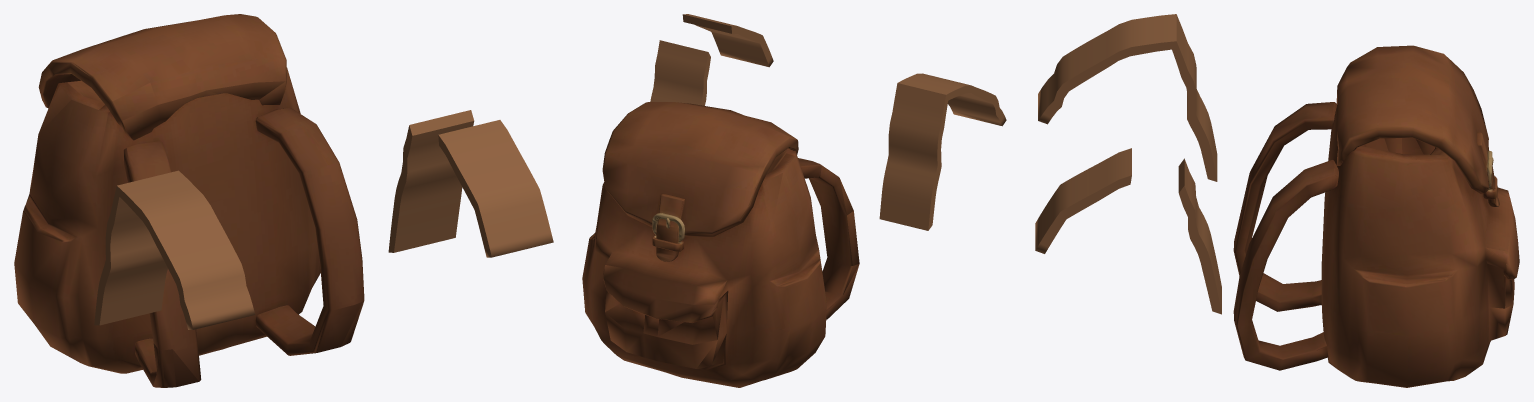
The model's file is mak_v2_backpack_v3.glb.
The picture shows the model from 3 angles, left to right: view 1: azimuth 30°, elevation 25°; view 2: azimuth 150°, elevation 25°; view 3: azimuth 270°, elevation 25°; orthographic projection. The views are drawn at different scales.
Visible parts, largest first — view 1: mak_backpack; view 2: mak_backpack; view 3: mak_backpack.
Boxes of the visible parts, x1,y1,x2,y2 form: mak_backpack: (14, 14, 553, 387); mak_backpack: (582, 14, 1006, 387); mak_backpack: (1035, 14, 1519, 387).
Bounding box in the file's own units: 0.435 × 0.36 × 0.5633.
2 materials, 1 textured.
